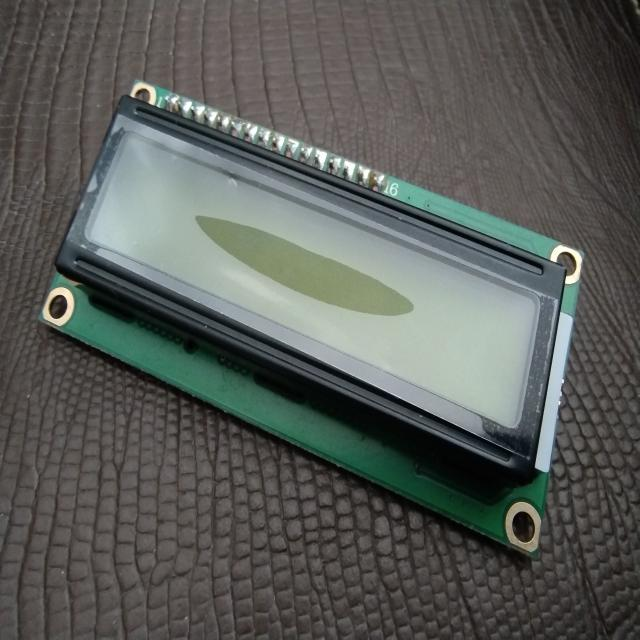lcd: (41, 60, 588, 567)
